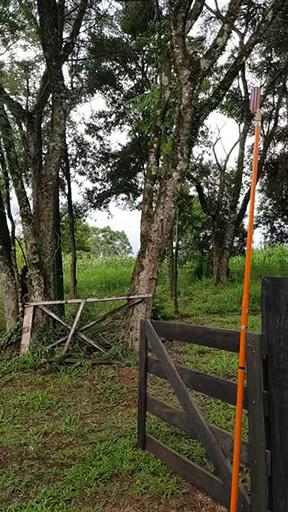Detector_Tensao_Contato: (248, 83, 263, 116)
Vara_Manobra: (229, 113, 264, 512)
